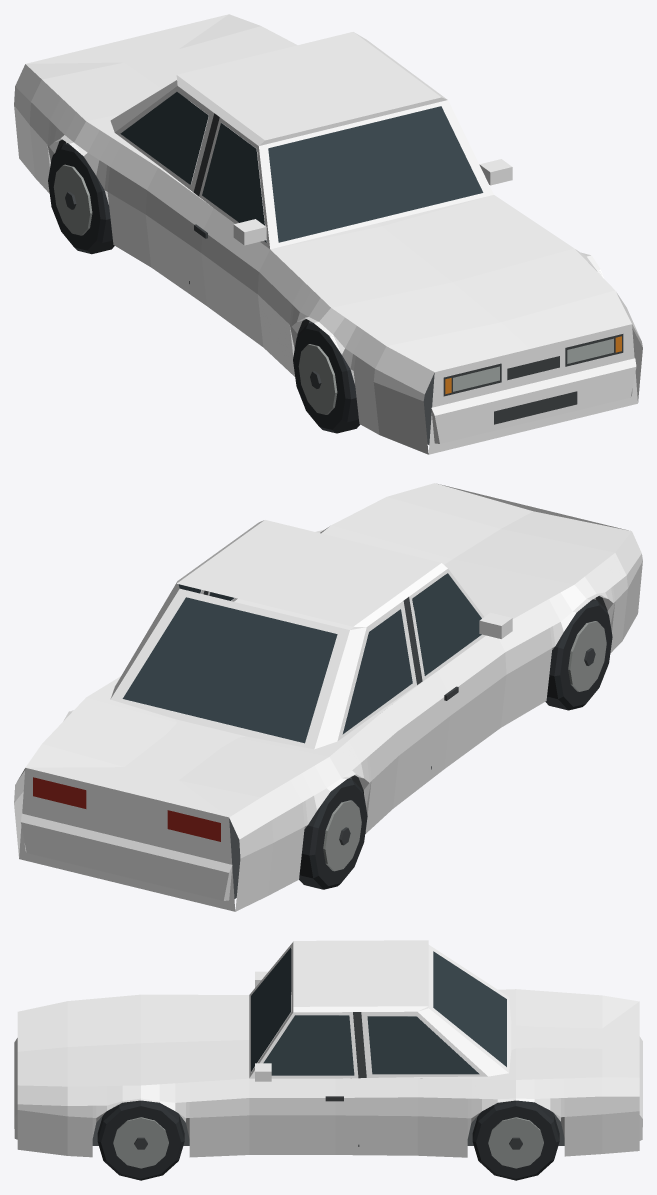
File: hayase_gekko.glb
3 renders of one model, top to bottom at view 1: azimuth 30°, elevation 25°; view 2: azimuth 150°, elevation 25°; view 3: azimuth 270°, elevation 25°, orthographic. The views are drawn at different scales.
Parts seen in each view (by area): view 1: hayase_gekko; view 2: hayase_gekko; view 3: hayase_gekko.
Boxes of the visible parts, x1,y1,x2,y2 form: hayase_gekko: (14, 14, 642, 454); hayase_gekko: (14, 483, 642, 911); hayase_gekko: (14, 940, 642, 1180).
Size of the model in its own units: 1.76 by 1.26 by 4.51.
8 materials, 1 textured.
